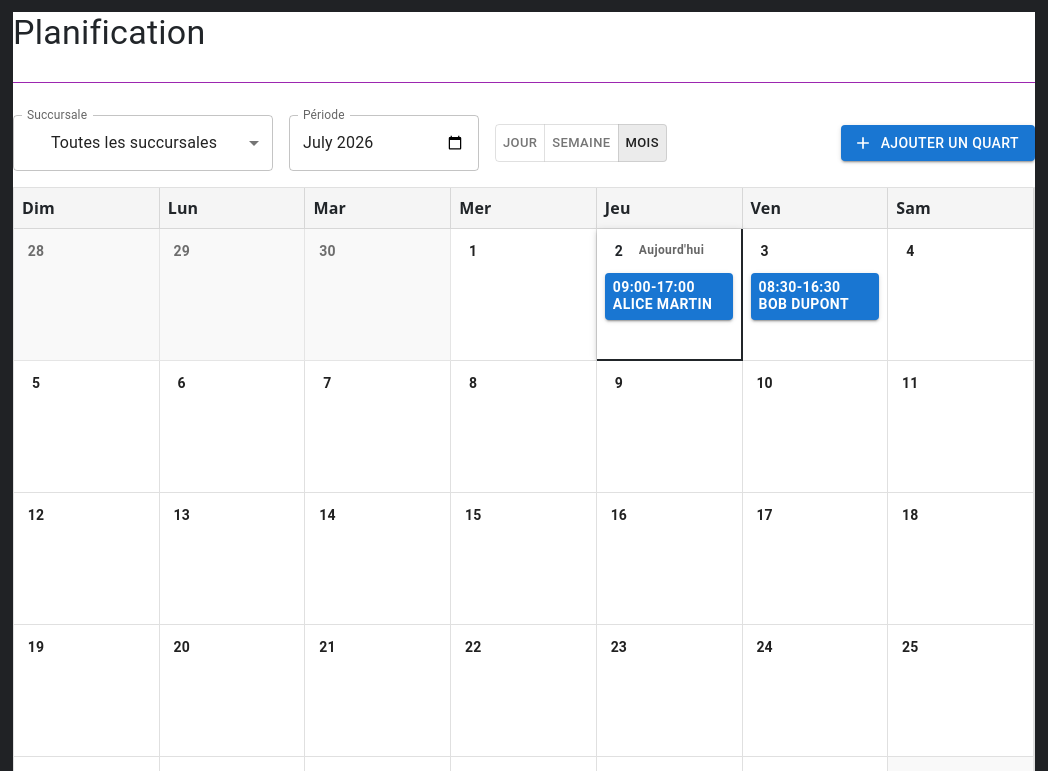
it: SchedulesPage › should filter shifts by selected location
Expected: the text "Alice Martin" is shown, 613,296 -> 724,314
Step 1. Press the mouse on the dropdown labelled "Toutes les succursales" → coordinates (134, 143), box 51,133 -> 217,152
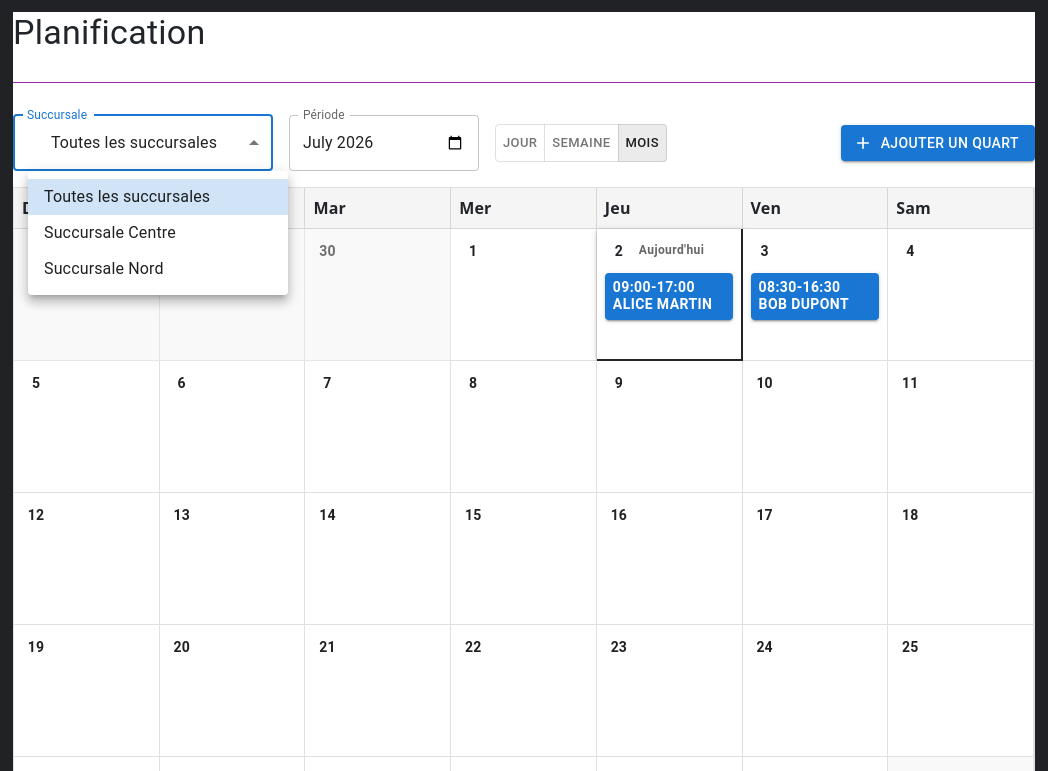
Step 2. Click the option "Succursale Centre" → coordinates (110, 232), box 44,223 -> 176,242
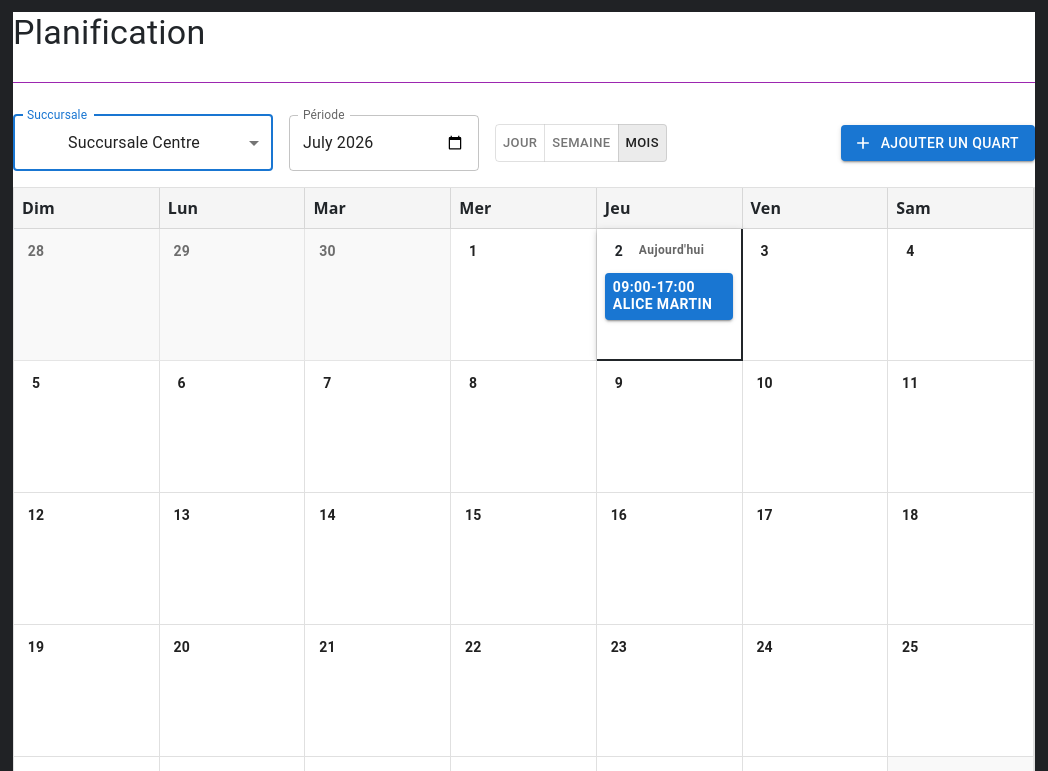
Expected: the text "Alice Martin" is shown, 613,296 -> 724,314
Expected: the button "Bob Dupont" is gone
